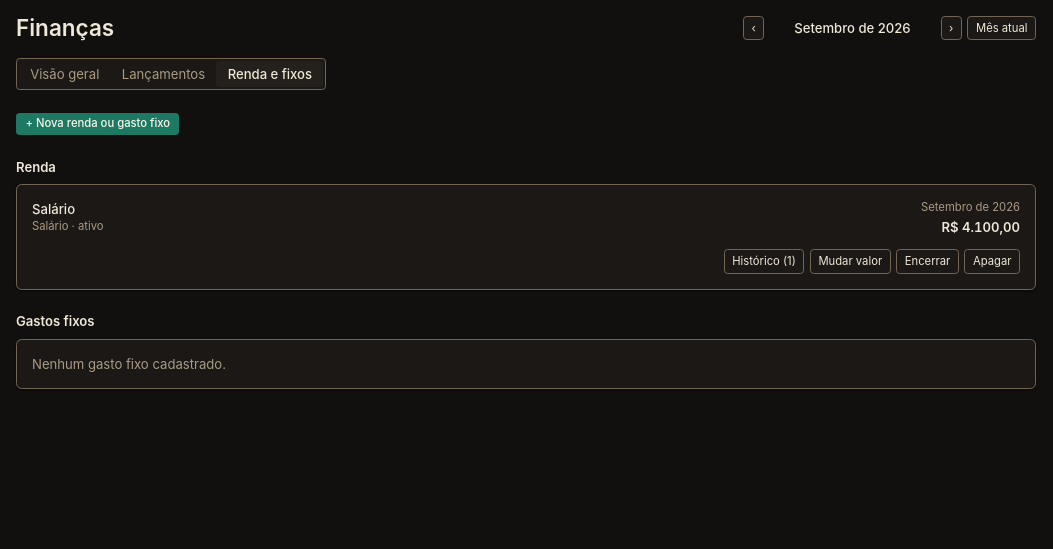
Test: ConteudoDeFinancas › categoria criada no item fixo nasce do tipo escolhido
Step 1. Click the button "+ Nova renda ou gasto fixo" → [98, 124], box left=16, top=112, right=179, bottom=135
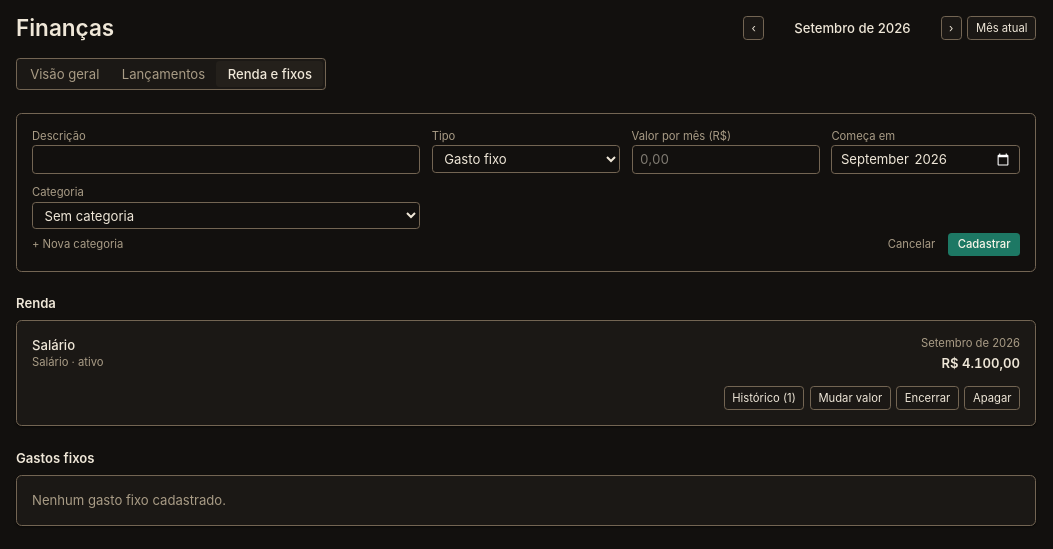
Step 2. Select "Renda" in the dropdown labelled "Tipo" → [526, 159], box left=432, top=145, right=620, bottom=173
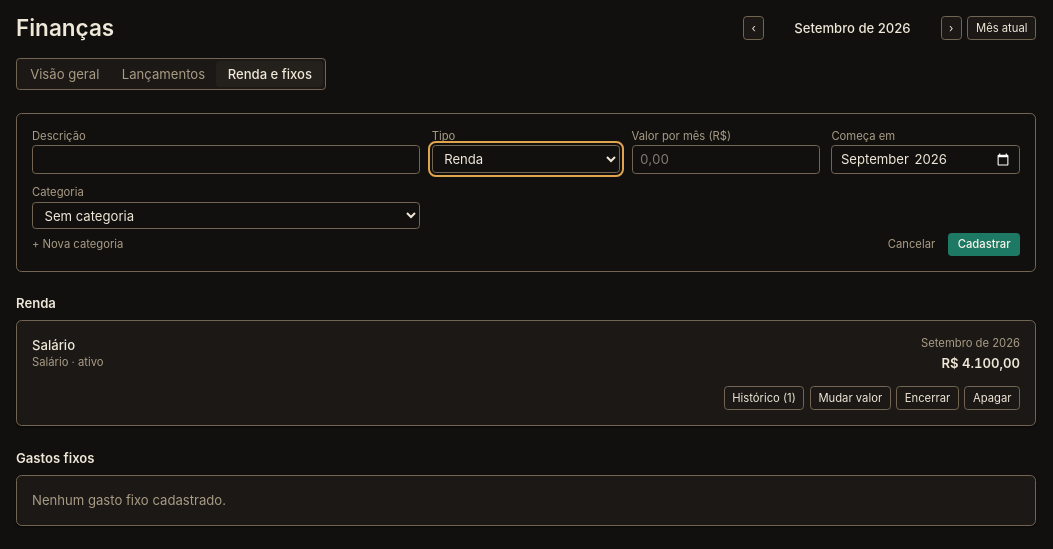
Step 3. Click the button "+ Nova categoria" → [78, 244], box left=24, top=233, right=131, bottom=256
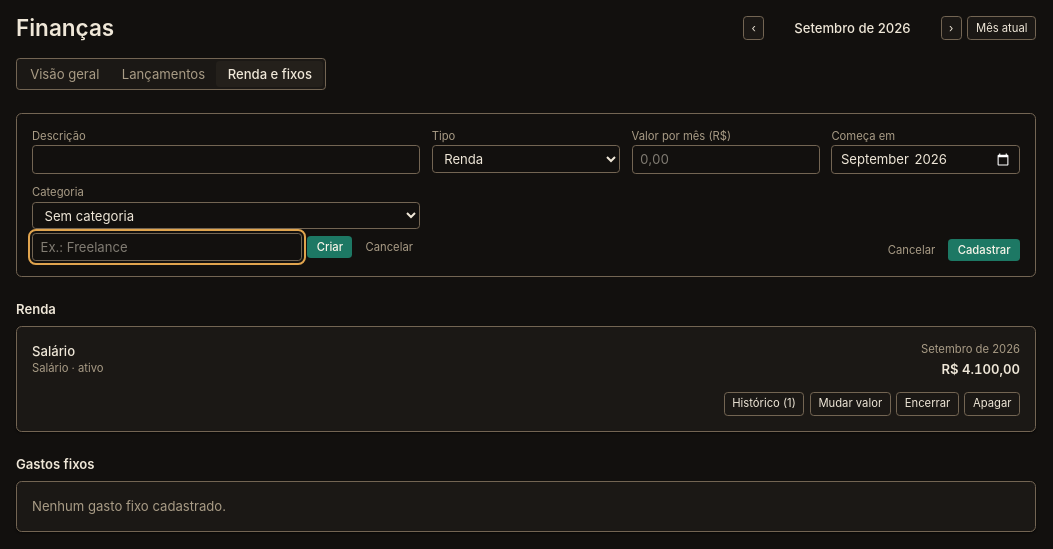
Step 4. Type "Freelance" into the field named "Nome da nova categoria" → [167, 247], box left=32, top=233, right=302, bottom=261
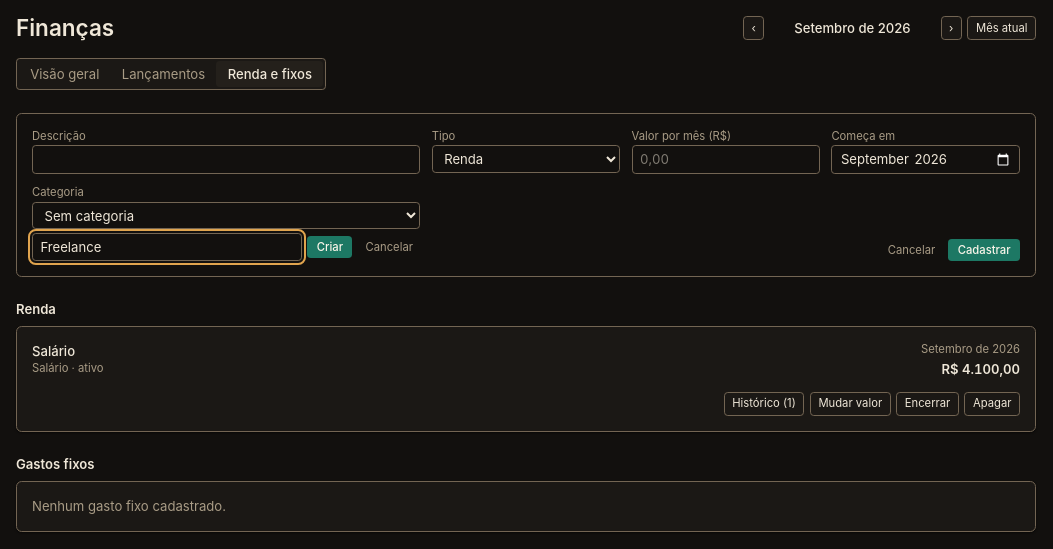
Step 5. Click the button "Criar" → [330, 247], box left=307, top=236, right=352, bottom=258
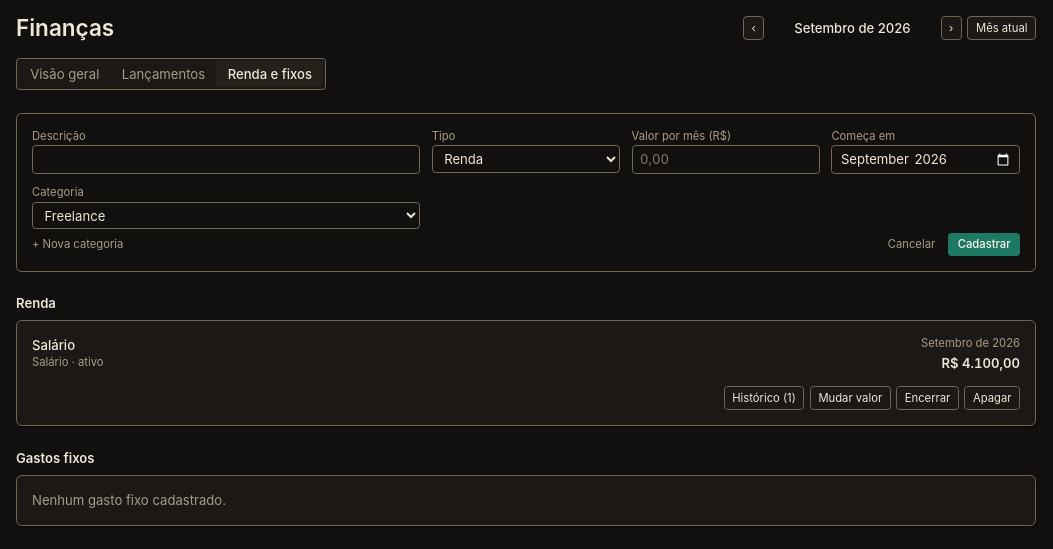
Expected: the dropdown labelled "Categoria" shows "Freelance", left=32, top=202, right=420, bottom=229
